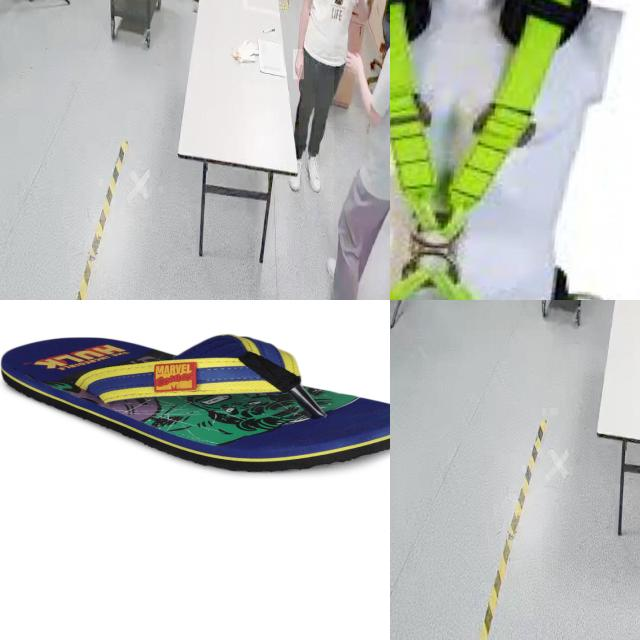Harness: (390, 0, 590, 300)
Sandals: (0, 331, 390, 475)
hand_noglove: (344, 47, 364, 76), (293, 49, 305, 80)
person: (333, 0, 390, 300), (299, 0, 366, 177)
shoes: (303, 150, 322, 197), (288, 148, 304, 196)
